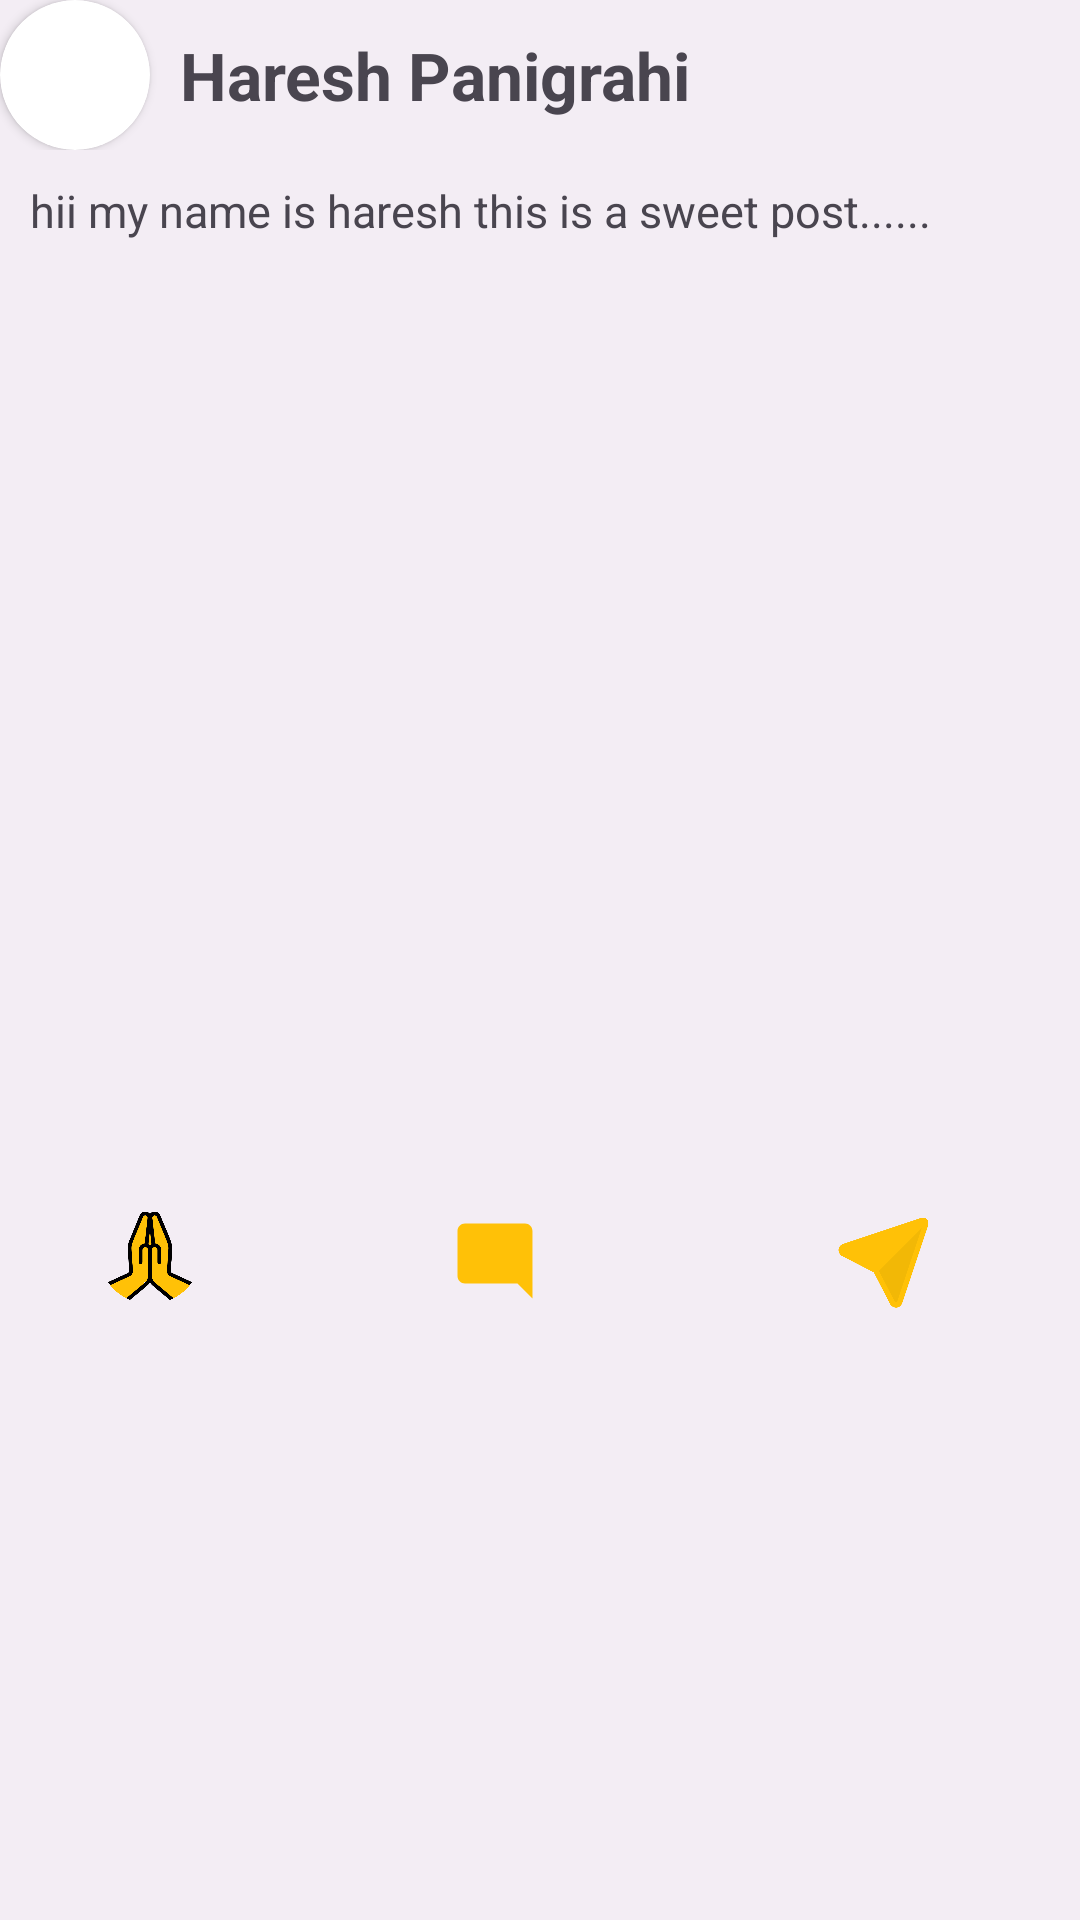

Where icons sit on this 1080×1920 app screen, as (left=x1, top=y1, right=x2, bottom=y2):
mode comment: (left=457, top=1223, right=533, bottom=1299)
share: (left=838, top=1218, right=928, bottom=1308)
